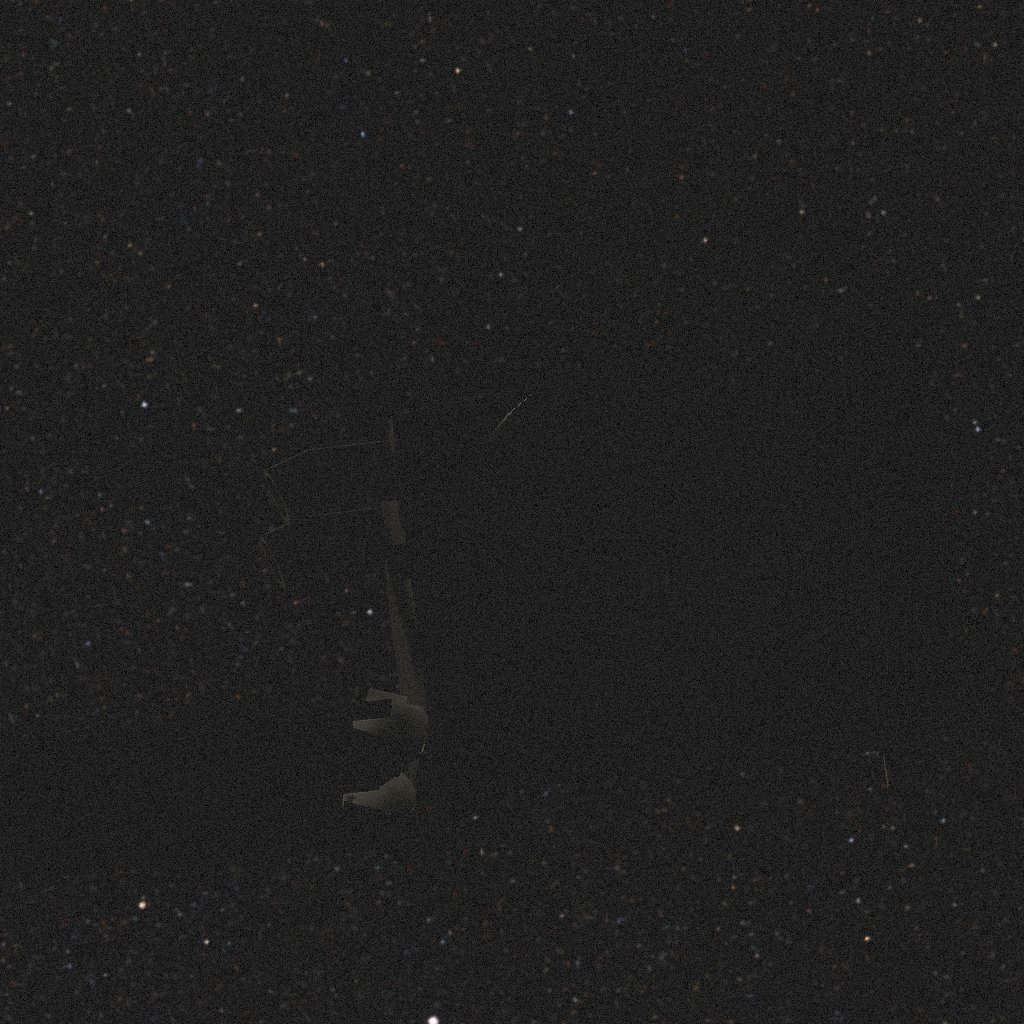proba_3_csc: (27, 347, 971, 893)
